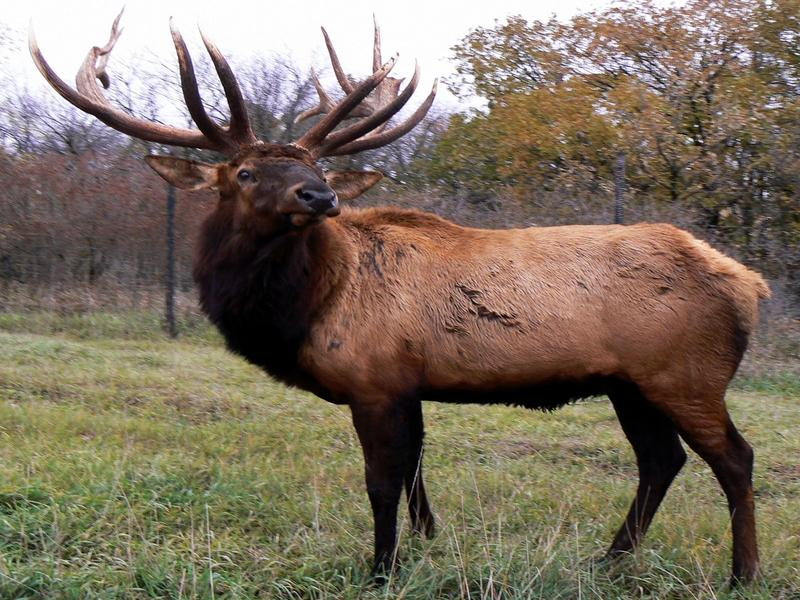elk: (21, 27, 766, 584)
